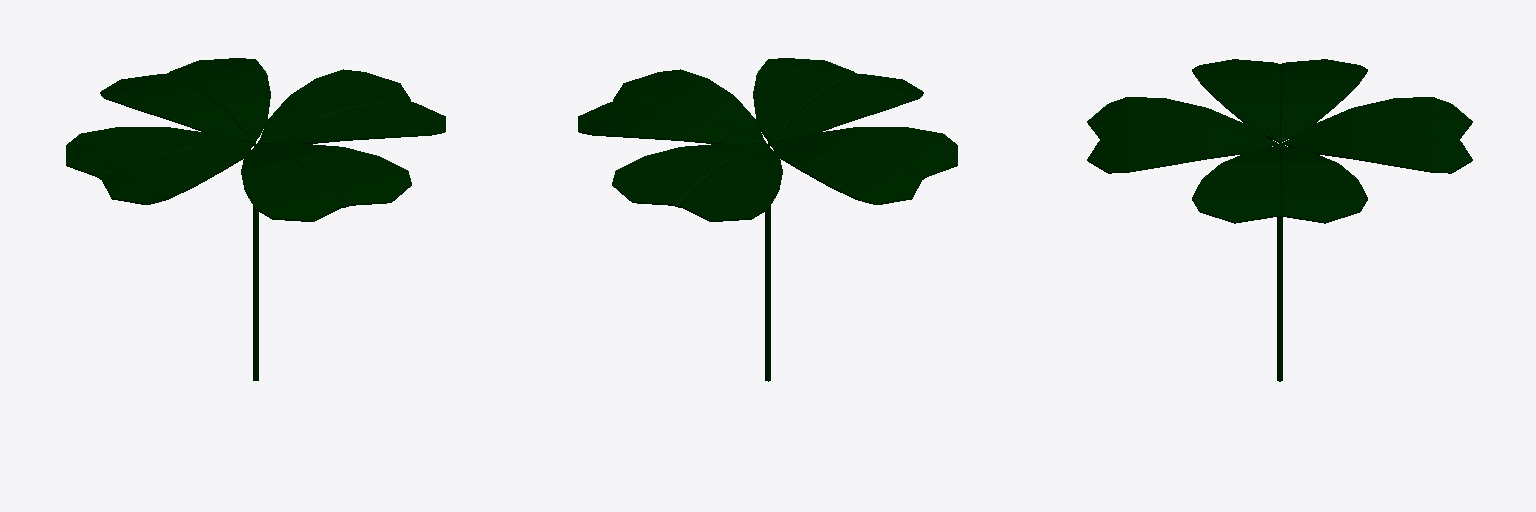
File: clover.obj
The picture shows the model from 3 angles: view 1: azimuth 30°, elevation 25°; view 2: azimuth 150°, elevation 25°; view 3: azimuth 270°, elevation 25°; orthographic projection.
Visible parts, largest first — view 1: clover; view 2: clover; view 3: clover.
Boxes of the visible parts, x1=… form: clover: x1=66, y1=58, x2=445, y2=380; clover: x1=578, y1=58, x2=957, y2=381; clover: x1=1087, y1=59, x2=1472, y2=381.
Bounding box in the file's own units: 2.2 × 1.56 × 2.2.